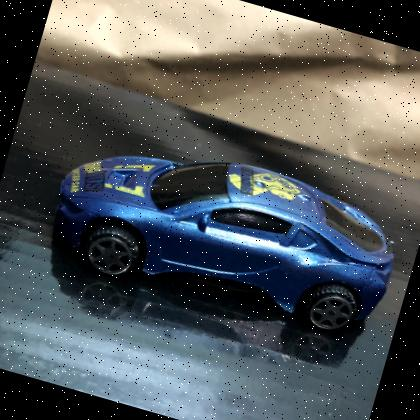Car: (52, 156, 394, 332)
